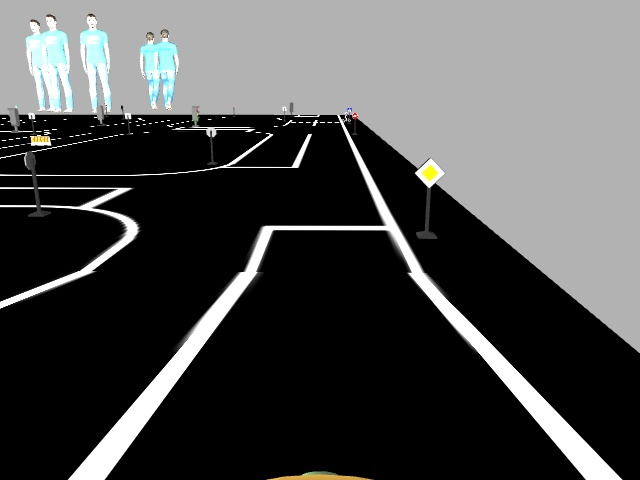Priority: (412, 155, 444, 189)
